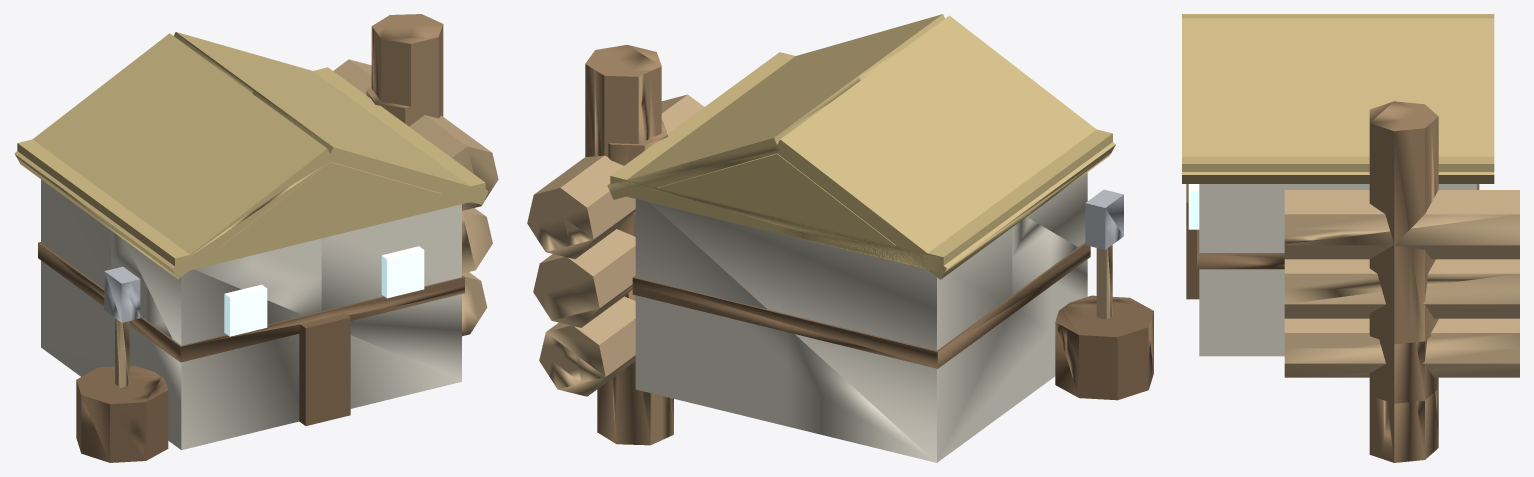
Rendered from woodcutter.glb.
The picture shows the model from 3 angles, left to right: view 1: azimuth 30°, elevation 25°; view 2: azimuth 150°, elevation 25°; view 3: azimuth 270°, elevation 25°; orthographic projection. The views are drawn at different scales.
Parts seen in each view (by area): view 1: WoodcutterWall; view 2: WoodcutterWall; view 3: WoodcutterWall.
Boxes of the visible parts, left/top/right/bottom form: WoodcutterWall: left=14, top=14, right=498, bottom=462; WoodcutterWall: left=527, top=14, right=1153, bottom=462; WoodcutterWall: left=1182, top=14, right=1519, bottom=462.
Size of the model in its own units: 2.35 by 1.78 by 1.58.
